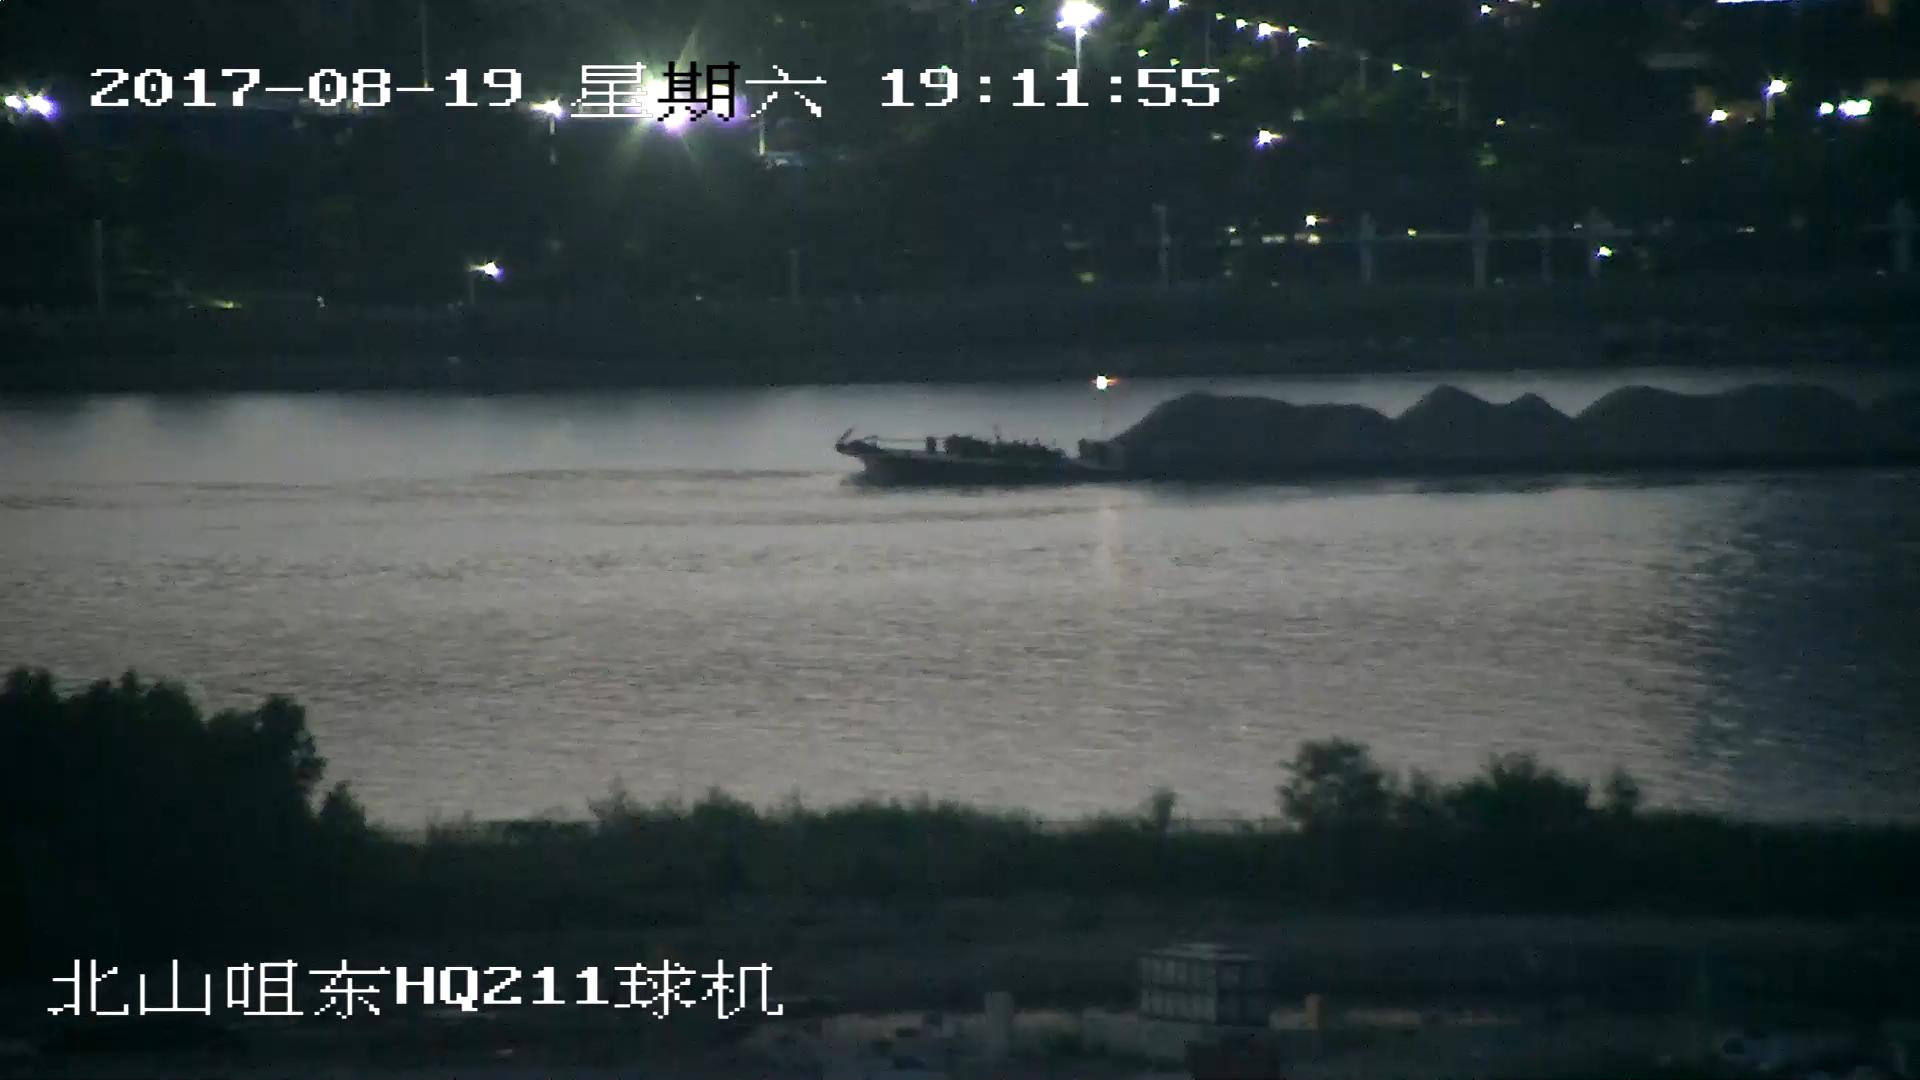ore carrier: (842, 380, 1920, 496)
